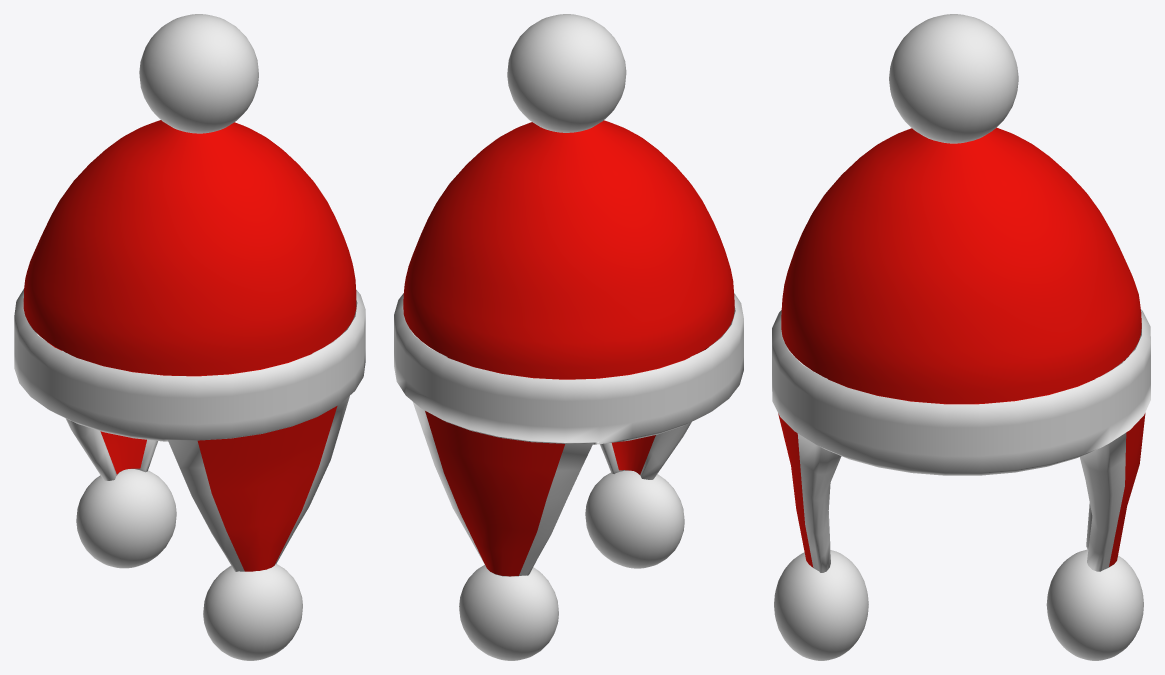
Rendered from HAT2.fbx.
3 views of the same model, side by side, from view 1: azimuth 30°, elevation 25°; view 2: azimuth 150°, elevation 25°; view 3: azimuth 270°, elevation 25° (orthographic). The views are drawn at different scales.
Parts seen in each view (by area): view 1: Circle.004, Circle.003, Circle.002, Sphere.001, Sphere.002, Sphere.003; view 2: Circle.004, Circle.003, Circle.002, Sphere.001, Sphere.003, Sphere.002; view 3: Circle.004, Circle.003, Sphere.001, Sphere.002, Sphere.003, Circle.002.
Boxes of the visible parts, x1,y1,x2,y2 form: Circle.004: [23, 120, 356, 375]; Circle.003: [14, 289, 365, 571]; Circle.002: [47, 342, 337, 571]; Sphere.001: [139, 14, 258, 133]; Sphere.002: [76, 469, 176, 568]; Sphere.003: [203, 564, 302, 660]; Circle.004: [403, 120, 734, 379]; Circle.003: [394, 293, 743, 576]; Circle.002: [425, 347, 708, 576]; Sphere.001: [507, 14, 626, 132]; Sphere.003: [585, 470, 684, 568]; Sphere.002: [459, 565, 558, 660]; Circle.004: [781, 127, 1141, 403]; Circle.003: [772, 309, 1150, 572]; Sphere.001: [889, 14, 1018, 143]; Sphere.002: [1046, 549, 1143, 660]; Sphere.003: [774, 550, 868, 660]; Circle.002: [778, 359, 1145, 567].
Size of the model in its own units: 398 by 742 by 398.
